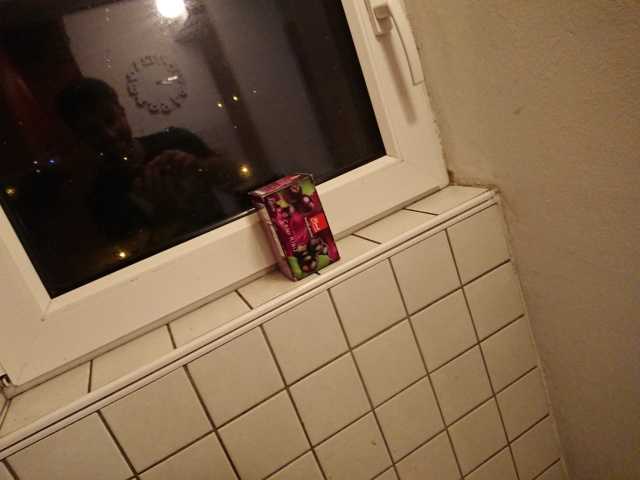Franck Black Currant Tea 60g: (246, 169, 342, 284)
